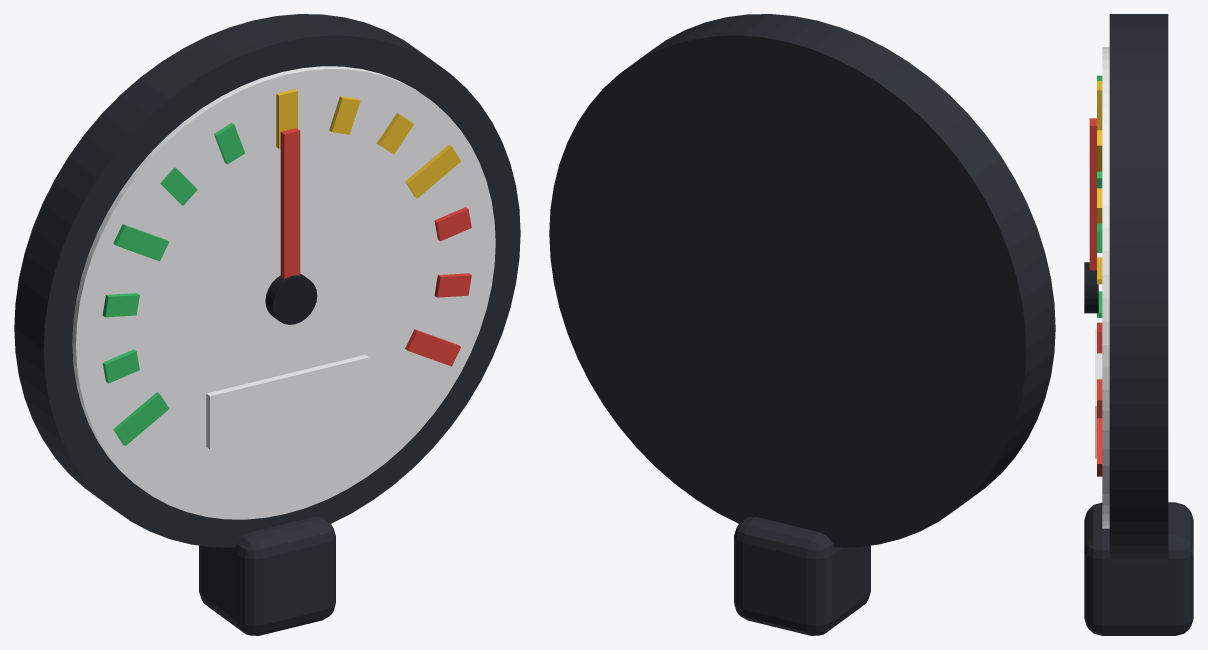
File: medidor_amperes.glb
3 renders of one model, left to right at view 1: azimuth 30°, elevation 25°; view 2: azimuth 150°, elevation 25°; view 3: azimuth 270°, elevation 25°, orthographic.
Parts seen in each view (by area): view 1: Cylinder.001, Cylinder, Cube.013, texto, aguja, Cube.009, Cube, Cube.003, Cube.012, Cube.006, Cube.007, Cube.001 (+6 smaller); view 2: Cylinder, Cube.013; view 3: Cylinder, Cube.013, Cylinder.001, aguja, texto, Cube.012, Cube.006, Cube.007, Cube.011, Cube.008, Cube.010.
Boxes of the visible parts, box(x1,y1,x2,y2) form: Cylinder.001: box(72, 66, 495, 519); Cylinder: box(14, 14, 520, 547); Cube.013: box(199, 517, 335, 635); texto: box(206, 355, 368, 449); aguja: box(265, 128, 317, 324); Cube.009: box(405, 144, 461, 198); Cube: box(113, 392, 169, 445); Cube.003: box(113, 224, 169, 261); Cube.012: box(405, 329, 460, 366); Cube.006: box(276, 89, 297, 148); Cube.007: box(329, 96, 360, 134); Cube.001: box(102, 349, 139, 383); Cylinder: box(549, 14, 1055, 547); Cube.013: box(734, 517, 870, 635); Cylinder: box(1109, 14, 1168, 561); Cube.013: box(1084, 502, 1193, 635); Cylinder.001: box(1102, 47, 1109, 528); aguja: box(1084, 118, 1098, 313); texto: box(1095, 328, 1102, 458); Cube.012: box(1097, 418, 1102, 476); Cube.006: box(1097, 81, 1102, 130); Cube.007: box(1097, 130, 1102, 171); Cube.011: box(1097, 379, 1102, 418); Cube.008: box(1097, 188, 1102, 223); Cube.010: box(1097, 322, 1102, 353).
Size of the model in its own units: 1.5 by 1.75 by 0.3.
